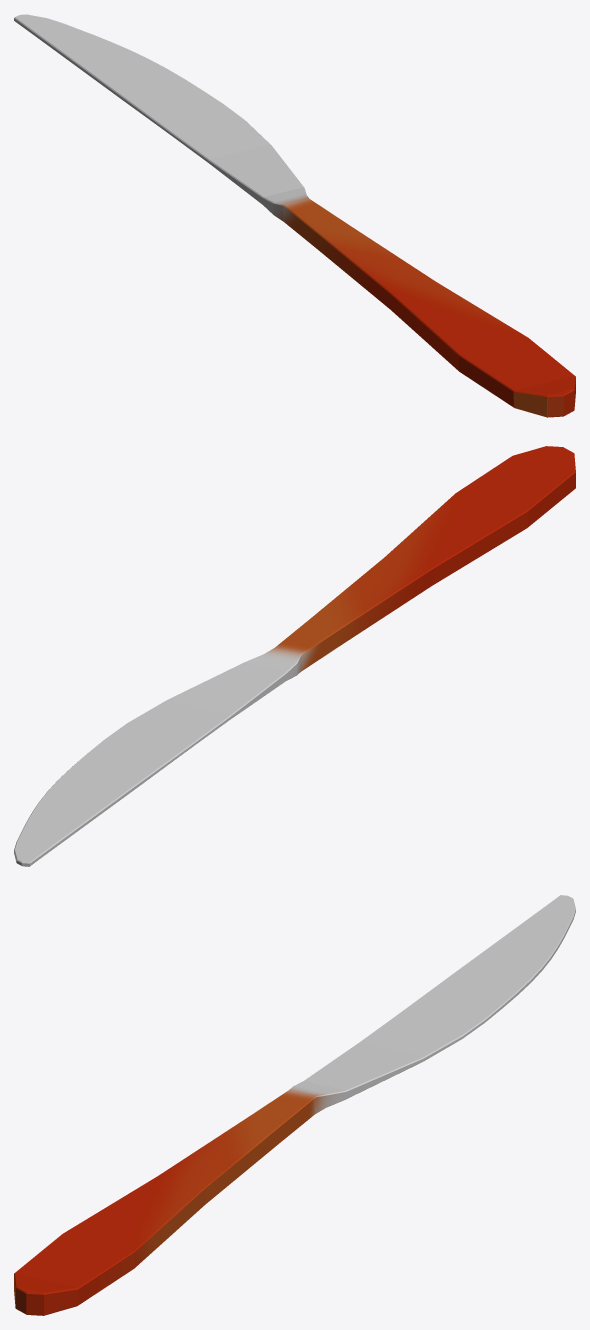
The model's file is knife.obj.
3 renders of one model, top to bottom at view 1: azimuth 30°, elevation 25°; view 2: azimuth 150°, elevation 25°; view 3: azimuth 330°, elevation 25°, orthographic. The views are drawn at different scales.
Visible parts, largest first — view 1: knife; view 2: knife; view 3: knife.
Boxes of the visible parts, <box> form: knife: <box>14,14,575,417</box>; knife: <box>14,446,575,866</box>; knife: <box>14,895,575,1315</box>.
Bounding box in the file's own units: 2.12 × 0.5 × 22.32.
1 material, 1 textured.
